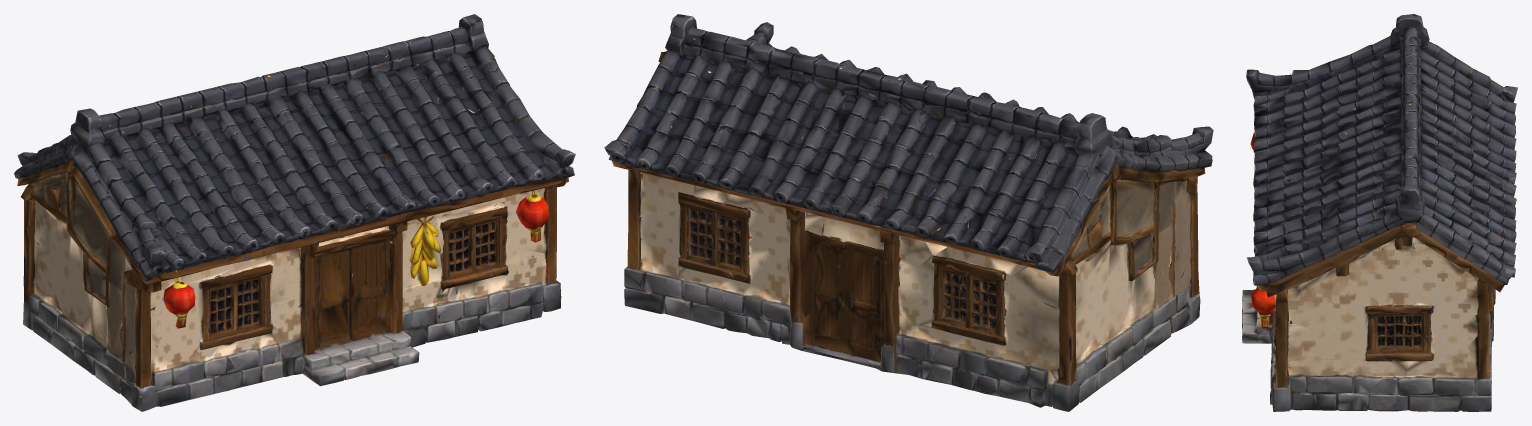
The model's file is bq_farmhouse.mid.glb.
3 renders of one model, left to right at view 1: azimuth 30°, elevation 25°; view 2: azimuth 150°, elevation 25°; view 3: azimuth 270°, elevation 25°, orthographic. The views are drawn at different scales.
Bounding box in the file's own units: 1.92 × 1.03 × 1.16.
1 material, 1 textured.
